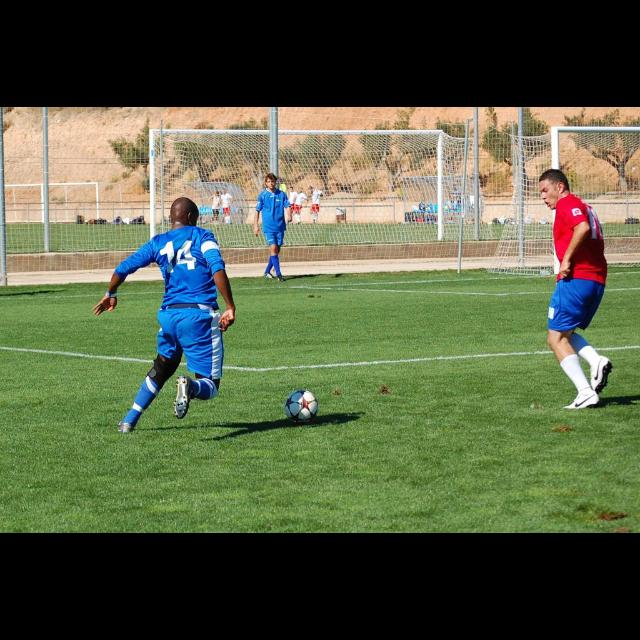Football: (282, 390, 318, 422)
